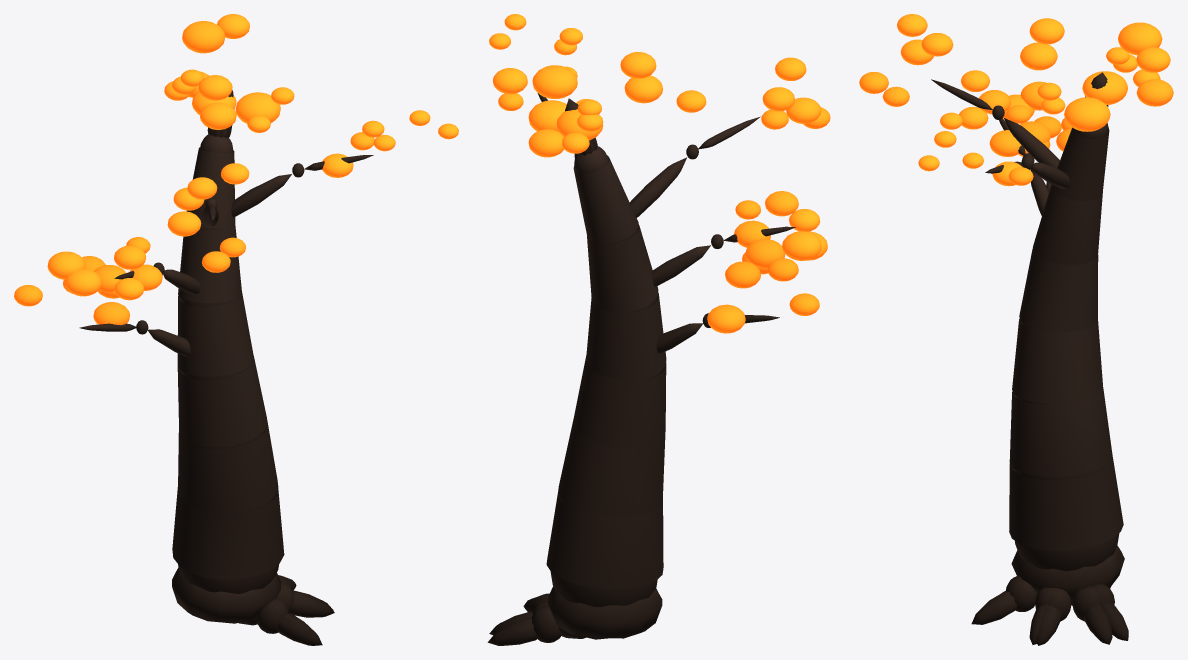
Rendered from tree_b.glb.
The picture shows the model from 3 angles, left to right: view 1: azimuth 30°, elevation 25°; view 2: azimuth 150°, elevation 25°; view 3: azimuth 270°, elevation 25°; orthographic projection. The views are drawn at different scales.
Parts seen in each view (by area): view 1: tree_b_trunk, tree_b_embers; view 2: tree_b_trunk, tree_b_embers; view 3: tree_b_trunk, tree_b_embers.
Boxes of the visible parts, box(x1,y1,x2,y2) form: tree_b_trunk: box(79, 90, 373, 645); tree_b_embers: box(14, 14, 458, 325); tree_b_trunk: box(487, 93, 795, 645); tree_b_embers: box(489, 14, 830, 333); tree_b_trunk: box(931, 72, 1128, 645); tree_b_embers: box(859, 14, 1173, 186).
Bounding box in the file's own units: 6.27 × 9.28 × 4.53.
